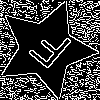F: (20, 24, 75, 78)
